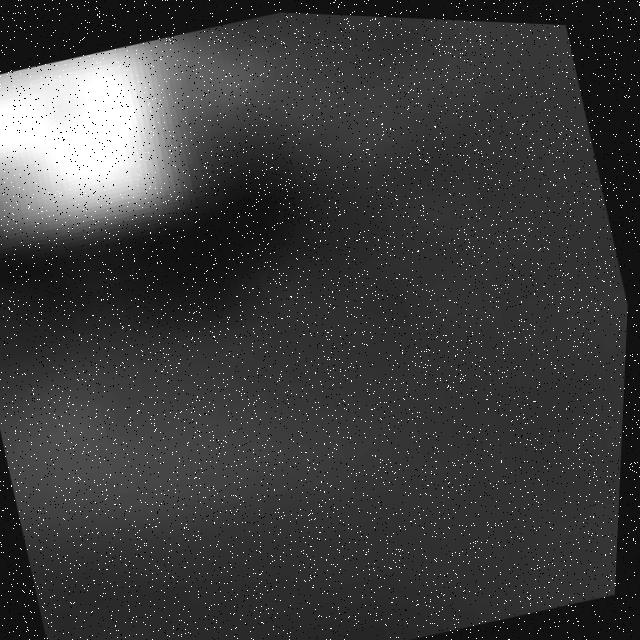person: (1, 6, 306, 275)
